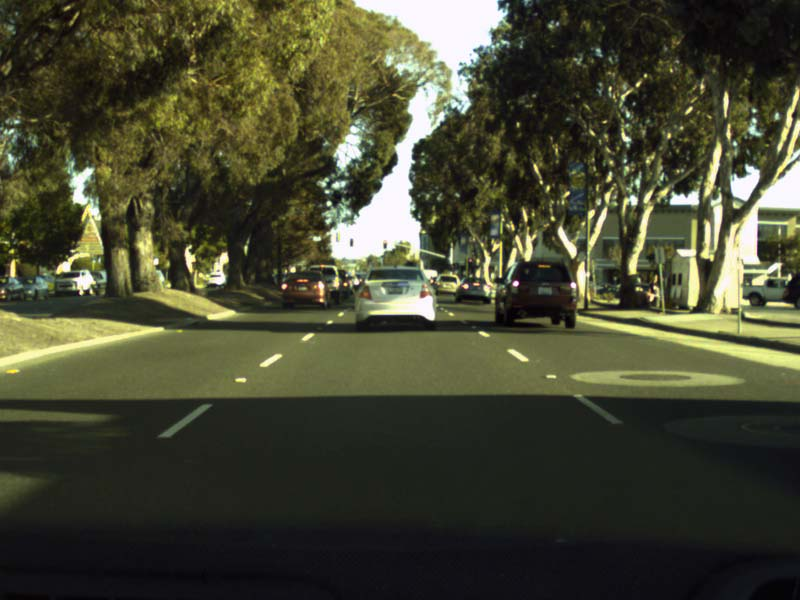Red: (468, 257, 472, 266), (383, 240, 386, 247)
